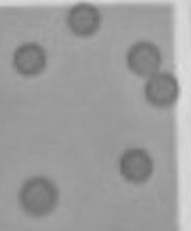cell: (13, 170, 63, 220), (120, 34, 165, 82), (7, 37, 52, 82), (113, 144, 157, 189), (141, 66, 184, 111), (62, 1, 108, 41)
